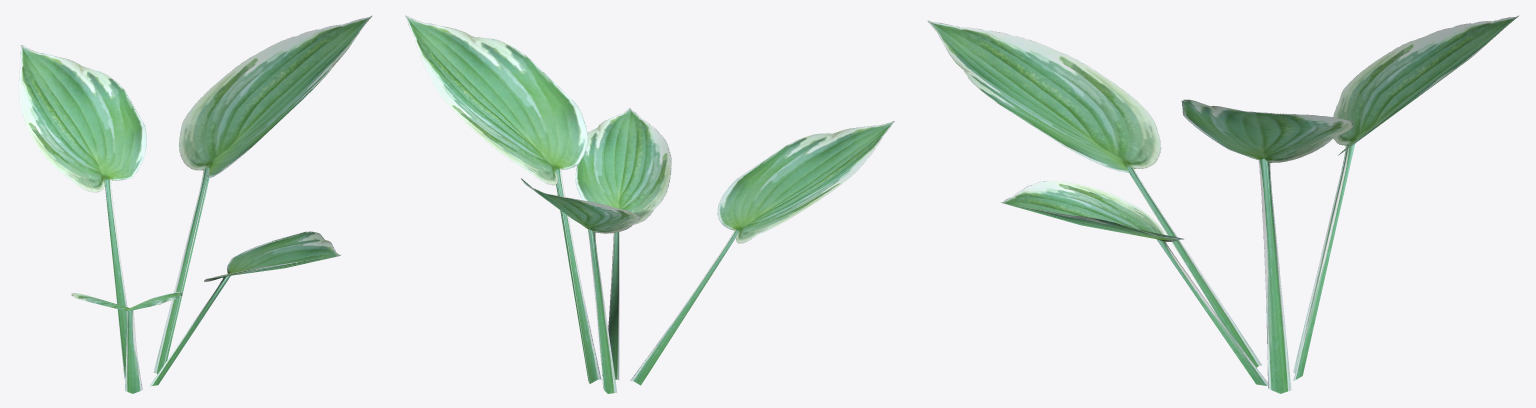
Rendered from plant_small_wg_03H.fbx.
3 renders of one model, left to right at view 1: azimuth 30°, elevation 25°; view 2: azimuth 150°, elevation 25°; view 3: azimuth 270°, elevation 25°, orthographic. The views are drawn at different scales.
Parts seen in each view (by area): view 1: plant_small_wg_03H; view 2: plant_small_wg_03H; view 3: plant_small_wg_03H.
Boxes of the visible parts, x1,y1,x2,y2 form: plant_small_wg_03H: (18, 15, 372, 393); plant_small_wg_03H: (405, 15, 894, 393); plant_small_wg_03H: (927, 15, 1518, 393).
Size of the model in its own units: 57.79 by 45.74 by 60.78.
